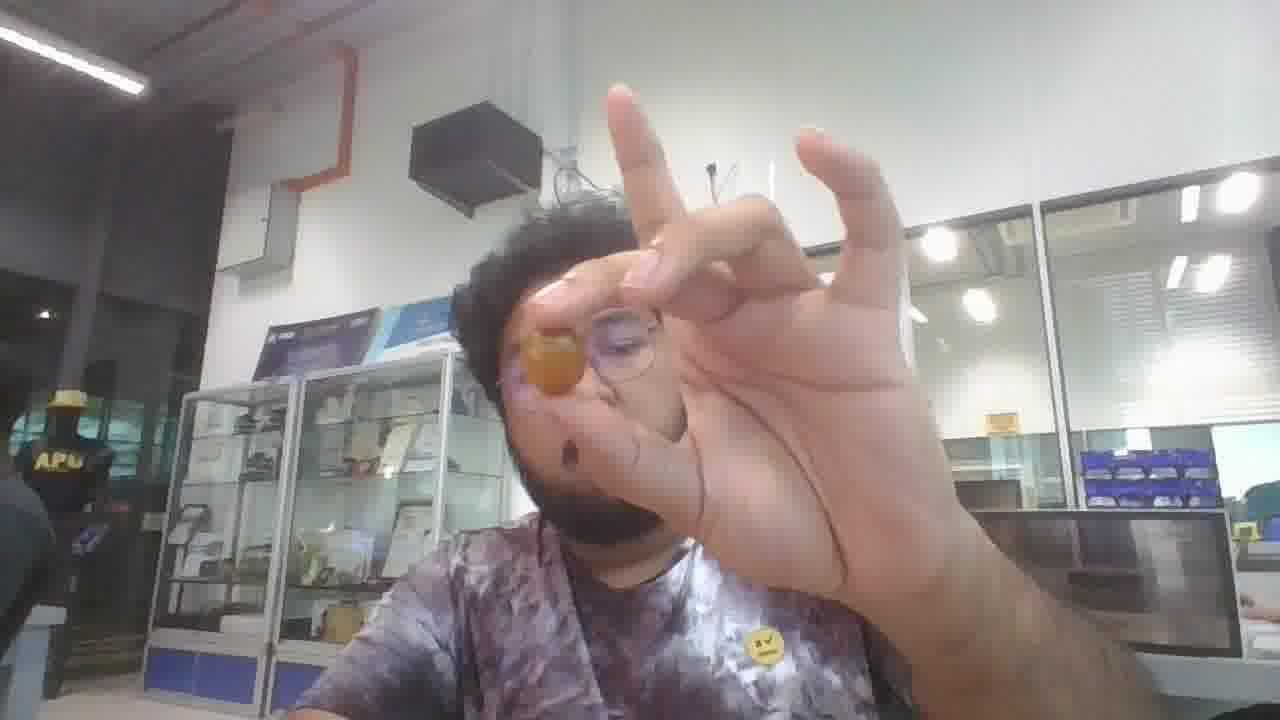yellow_cherry_tomato: (520, 331, 587, 394)
